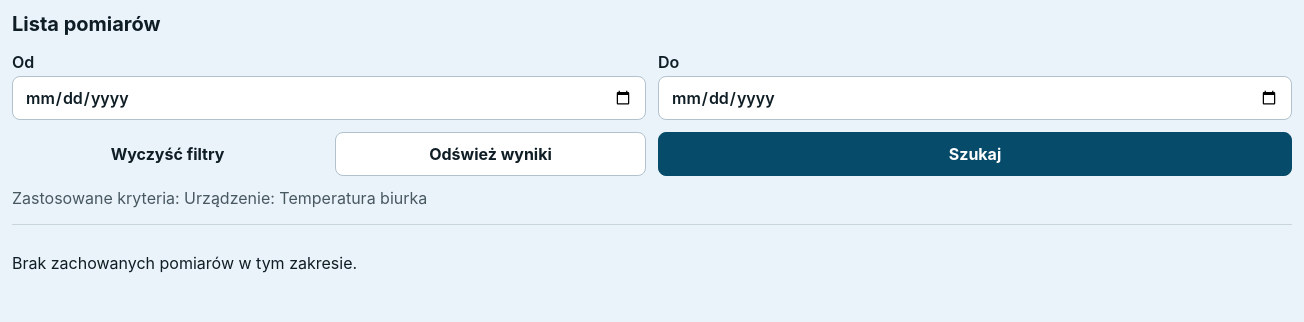
labels its static scope and blocks an invalid effective range without HTTP
Expected: the text "Brak zachowanych pomiarów w tym zakresie." is shown, [12, 253, 357, 273]
Type "2099-01-01" into the date field labelled "Od" at (329, 98), box [12, 76, 646, 120]
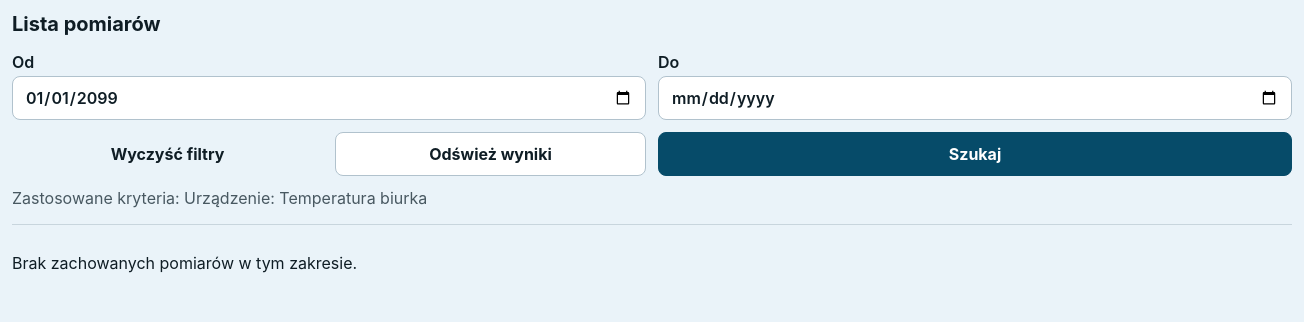
Click the button "Szukaj" at (975, 154), box [658, 132, 1292, 176]
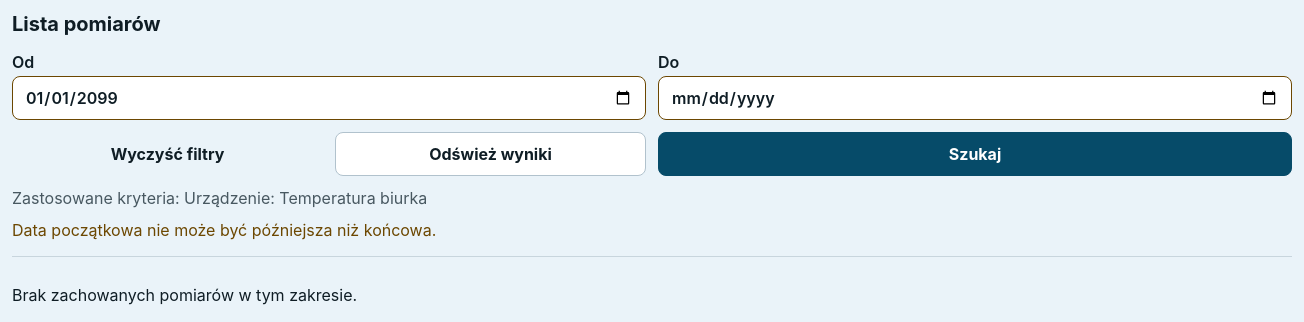
Expected: the message "Data początkowa nie może być późniejsza niż końcowa." is shown, [12, 220, 436, 240]
